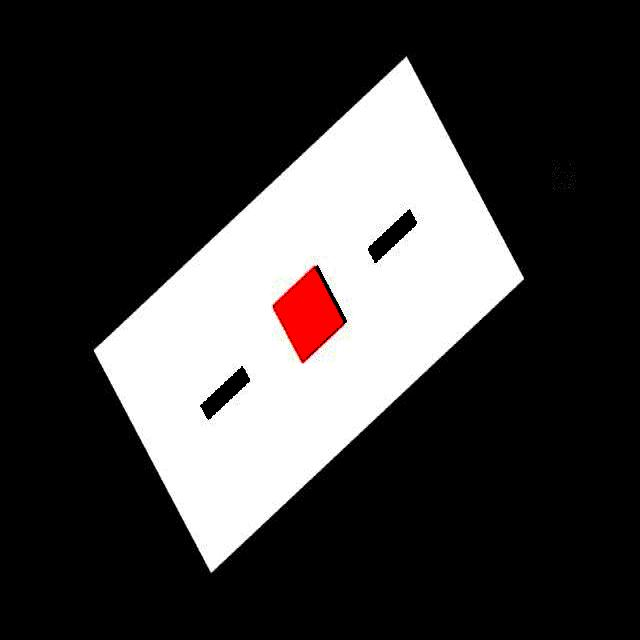red_square: (273, 264, 347, 363)
